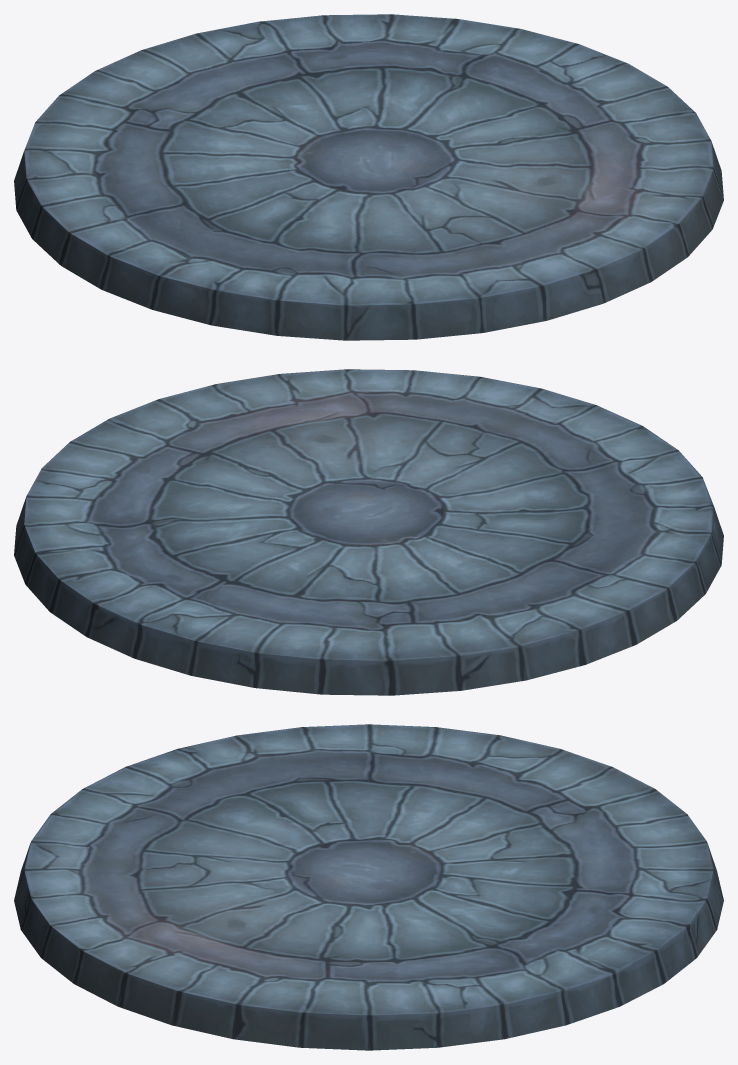
Rendered from floor_segment.fbx.
3 renders of one model, top to bottom at view 1: azimuth 30°, elevation 25°; view 2: azimuth 150°, elevation 25°; view 3: azimuth 270°, elevation 25°, orthographic.
Parts seen in each view (by area): view 1: floor_segment:Mesh; view 2: floor_segment:Mesh; view 3: floor_segment:Mesh.
Boxes of the visible parts, box(x1,y1,x2,y2) form: floor_segment:Mesh: box(14, 14, 723, 340); floor_segment:Mesh: box(14, 369, 723, 695); floor_segment:Mesh: box(14, 724, 723, 1050).
Size of the model in its own units: 16.18 by 0.7699 by 16.18.
1 material, 1 textured.
